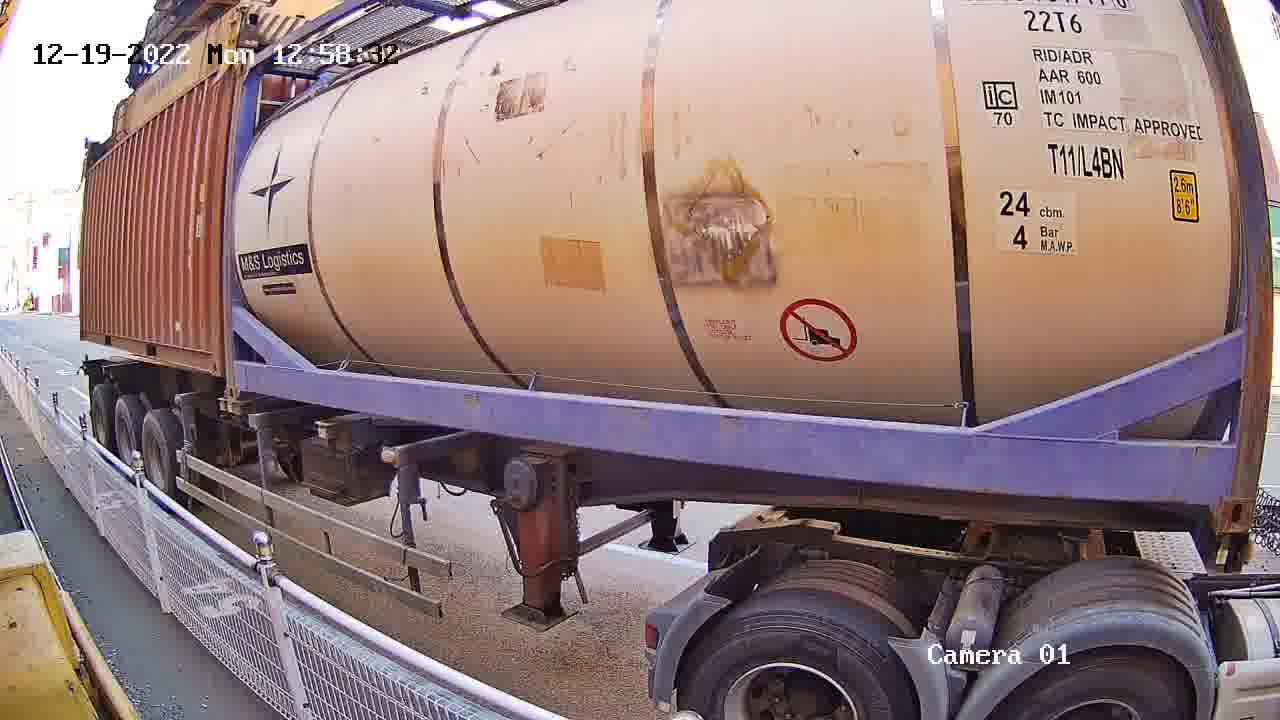Cone: (227, 399, 240, 419), (216, 394, 226, 414)
Hole_L: (225, 370, 254, 401)
Hole_R: (192, 339, 221, 374)
Tire: (143, 417, 170, 492), (117, 402, 139, 460), (92, 388, 111, 441)
